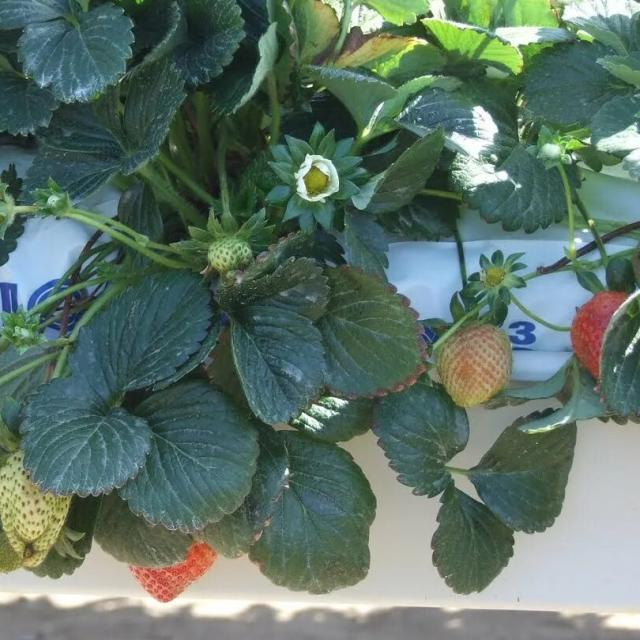Ripe Strawberry: (562, 283, 626, 383), (138, 560, 214, 606)
